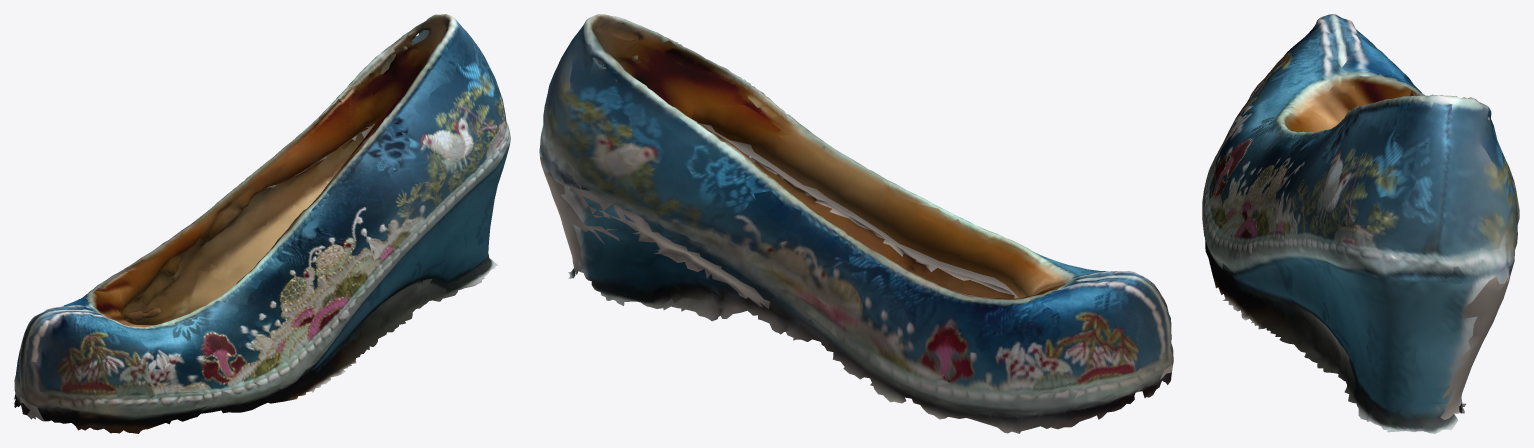
The model's file is shoe1.glb.
3 renders of one model, left to right at view 1: azimuth 30°, elevation 25°; view 2: azimuth 150°, elevation 25°; view 3: azimuth 270°, elevation 25°, orthographic. The views are drawn at different scales.
Parts seen in each view (by area): view 1: shoe; view 2: shoe; view 3: shoe.
Part boxes in pixels (box(x1,y1,x2,y2)): shoe: box(14, 14, 510, 433); shoe: box(539, 14, 1173, 433); shoe: box(1202, 14, 1519, 433).
Size of the model in its own units: 4.01 by 2.07 by 1.6.
4 materials, 4 textured.
